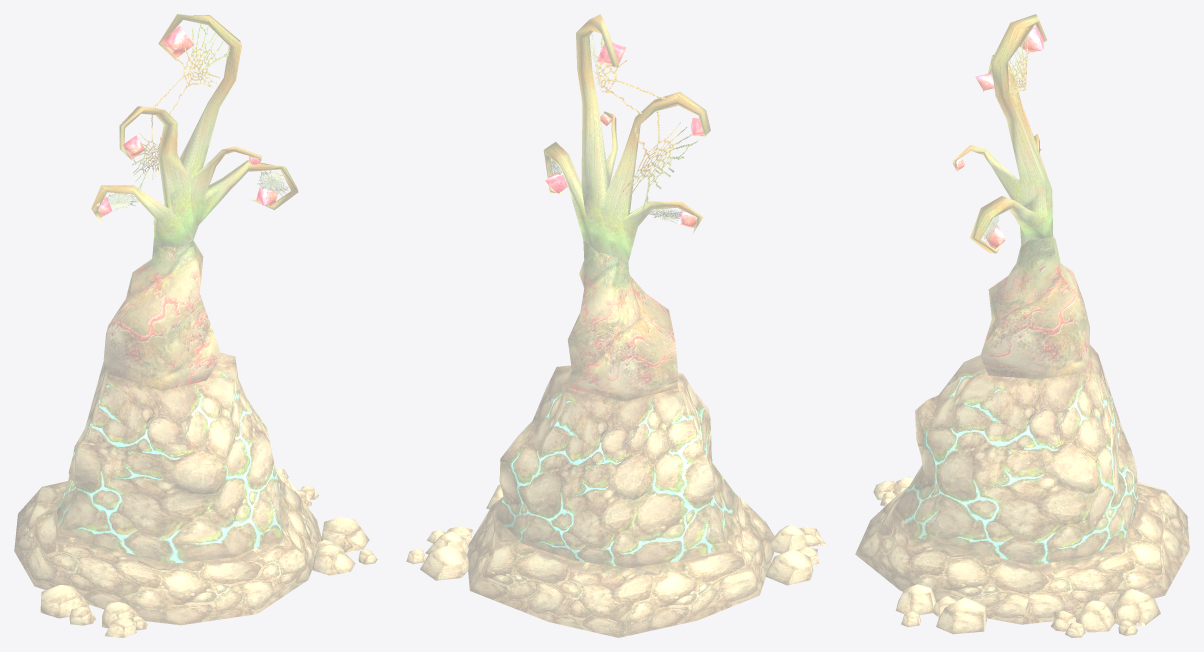
File: jinsi_maiden.glb
The picture shows the model from 3 angles, left to right: view 1: azimuth 30°, elevation 25°; view 2: azimuth 150°, elevation 25°; view 3: azimuth 270°, elevation 25°; orthographic projection. The views are drawn at different scales.
Parts seen in each view (by area): view 1: Jin_FE_confue01_understone, Jin_FE_confue01_stone, Jin_FE_confue01_up, Jin_FE_confue01_center; view 2: Jin_FE_confue01_understone, Jin_FE_confue01_stone, Jin_FE_confue01_up, Jin_FE_confue01_center; view 3: Jin_FE_confue01_understone, Jin_FE_confue01_stone, Jin_FE_confue01_center, Jin_FE_confue01_up.
Part boxes in pixels (x1,y1,x2,y2): Jin_FE_confue01_understone: [57, 353, 281, 563]; Jin_FE_confue01_stone: [14, 468, 377, 637]; Jin_FE_confue01_up: [91, 14, 298, 247]; Jin_FE_confue01_center: [103, 239, 221, 390]; Jin_FE_confue01_understone: [497, 365, 734, 567]; Jin_FE_confue01_stone: [406, 485, 826, 637]; Jin_FE_confue01_up: [543, 14, 710, 262]; Jin_FE_confue01_center: [565, 240, 678, 401]; Jin_FE_confue01_understone: [895, 344, 1138, 565]; Jin_FE_confue01_stone: [855, 476, 1189, 637]; Jin_FE_confue01_center: [980, 236, 1089, 379]; Jin_FE_confue01_up: [952, 14, 1053, 253].
Size of the model in its own units: 5.35 by 8.3 by 4.62.
Materials: 4 (4 with a texture image).
